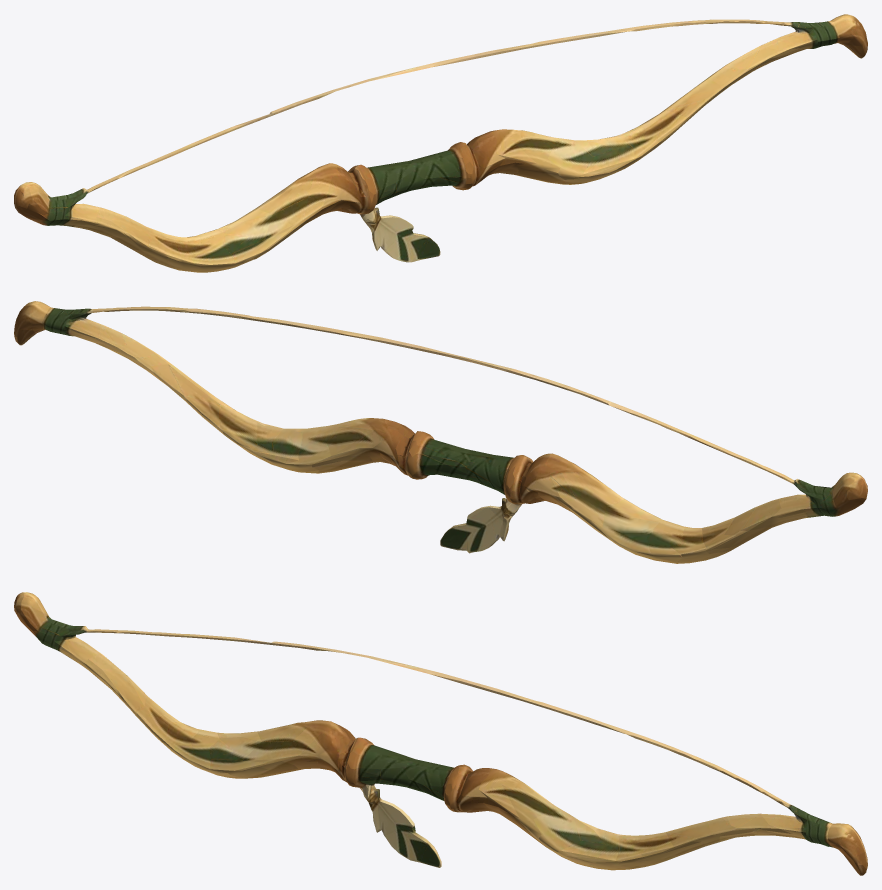
File: wind-archer-bow.glb
3 views of the same model, one above another, from view 1: azimuth 30°, elevation 25°; view 2: azimuth 150°, elevation 25°; view 3: azimuth 330°, elevation 25° (orthographic).
Parts seen in each view (by area): view 1: output_unwrapped; view 2: output_unwrapped; view 3: output_unwrapped.
Boxes of the visible parts, bbox=[...] form: output_unwrapped: bbox=[14, 14, 867, 272]; output_unwrapped: bbox=[14, 301, 867, 563]; output_unwrapped: bbox=[14, 592, 867, 875].
Bounding box in the file's own units: 1.91 × 0.4147 × 0.1081.
1 material, 1 textured.
